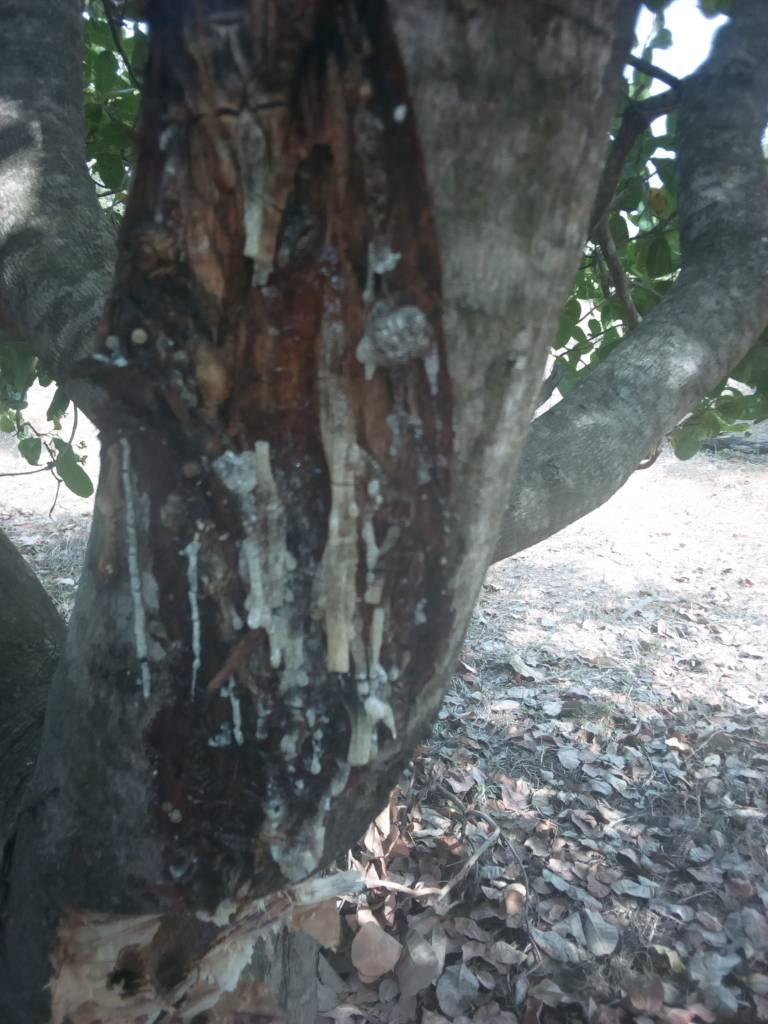Gommose: (130, 5, 449, 888)
